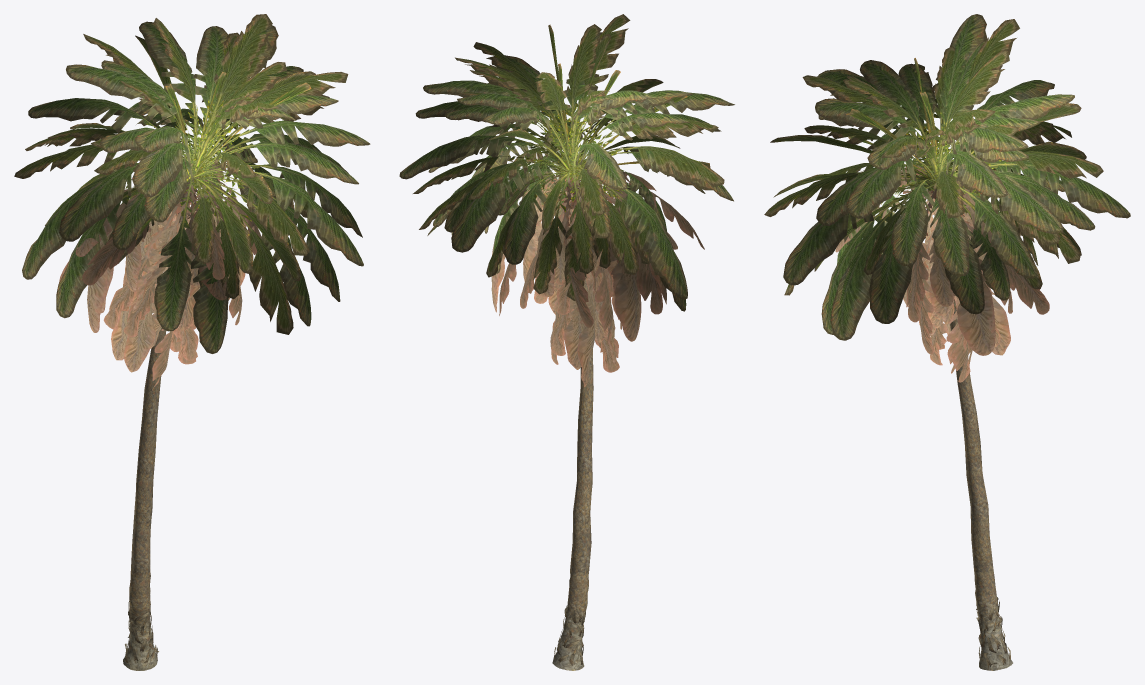
The model's file is bk_palm.glb.
The picture shows the model from 3 angles, left to right: view 1: azimuth 30°, elevation 25°; view 2: azimuth 150°, elevation 25°; view 3: azimuth 270°, elevation 25°; orthographic projection. The views are drawn at different scales.
Parts seen in each view (by area): view 1: Palm Tree_M_01_L, Palm Tree_M_01_T; view 2: Palm Tree_M_01_L, Palm Tree_M_01_T; view 3: Palm Tree_M_01_L, Palm Tree_M_01_T.
Boxes of the visible parts, bbox=[...] form: Palm Tree_M_01_L: bbox=[14, 14, 370, 390]; Palm Tree_M_01_T: bbox=[123, 177, 191, 670]; Palm Tree_M_01_L: bbox=[399, 14, 734, 387]; Palm Tree_M_01_T: bbox=[552, 178, 593, 670]; Palm Tree_M_01_L: bbox=[764, 14, 1130, 382]; Palm Tree_M_01_T: bbox=[950, 299, 1012, 670].
Bounding box in the file's own units: 7.95 × 15.29 × 8.11.
Materials: 4 (4 with a texture image).
